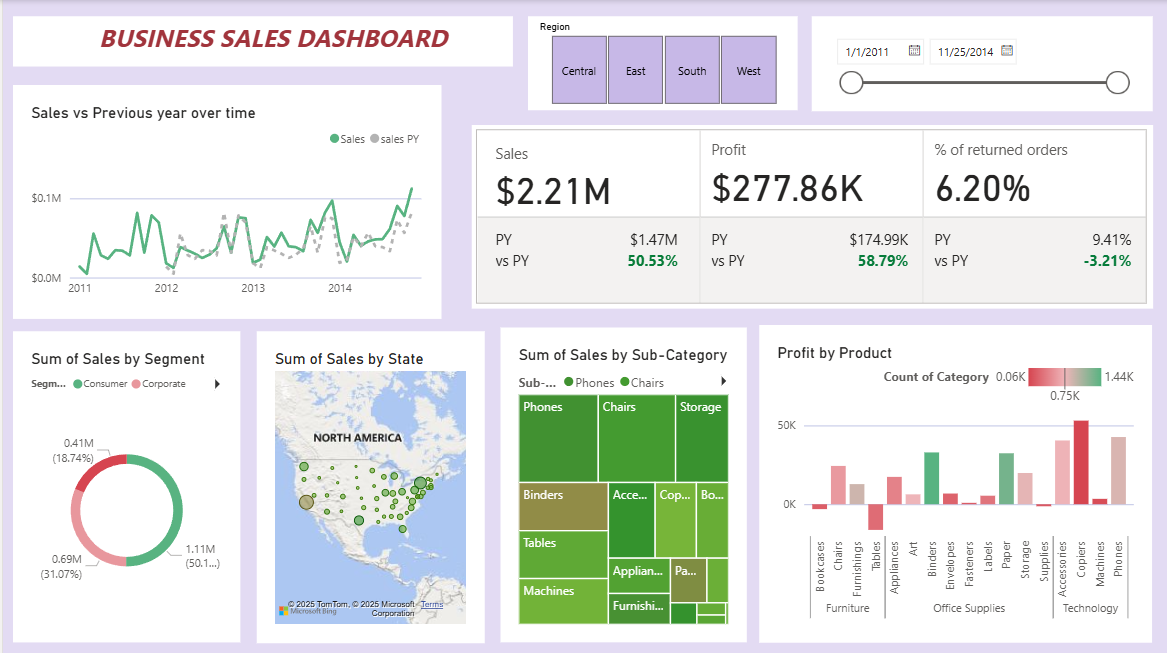

This screenshot's page, from the dashboard's own definition file:
{"tool":"powerbi","page":{"name":"Page 1","canvas":[1280,720],"ordinal":0},"visuals":[{"type":"textbox","box":[11,17.8,548.9,54.9],"z":0},{"type":"cardVisual","fields":{"Data":["Key Measures.Sales","Key Measures.Profit","Key Measures.% of returned orders"]},"box":[514.6,137.2,747.9,201.7],"z":1000},{"type":"lineChart","title":"Sales vs Previous year over time","fields":{"Y":["Key Measures.Sales","Key Measures.sales PY"],"Category":["Date Table.Start of month"]},"box":[11,93.3,470.7,256.6],"z":2000},{"type":"columnChart","title":"Profit by Product","fields":{"Category":["Orders.Category","Orders.Sub-Category"],"Y":["Sum(Orders.Profit)"]},"box":[830.2,356.8,430.9,348.5],"z":3000},{"type":"donutChart","fields":{"Y":["Sum(Orders.Sales)"],"Category":["Orders.Segment"]},"box":[11,363.6,249.7,341.7],"z":4000},{"type":"map","fields":{"Category":["Orders.State"],"Size":["Sum(Orders.Sales)"]},"box":[278.6,363.6,249.7,341.7],"z":5000},{"type":"slicer","fields":{"Values":["Date Table.Start of month"]},"box":[887.8,17.8,373.2,102.9],"z":6000},{"type":"treemap","fields":{"Group":["Orders.Sub-Category"],"Values":["Sum(Orders.Sales)"]},"box":[546.1,359.5,270.3,345.8],"z":7000},{"type":"slicer","fields":{"Values":["Orders.Region"]},"box":[576.3,17.8,296.4,102.9],"z":8000}]}

Visuals, with their boxes in screenshot pixels (x1, y1, x2, y2), scaled from the page's 1280x720 canvas onto the 1167x653 screenshot:
textbox: <box>10,16,510,66</box>
cardVisual - Key Measures.Sales x Key Measures.Profit: <box>469,124,1151,307</box>
"Sales vs Previous year over time" lineChart: <box>10,85,439,317</box>
"Profit by Product" columnChart: <box>757,324,1150,640</box>
donutChart - Sum(Orders.Sales) x Orders.Segment: <box>10,330,238,640</box>
map - Orders.State x Sum(Orders.Sales): <box>254,330,482,640</box>
slicer - Date Table.Start of month: <box>809,16,1150,109</box>
treemap - Orders.Sub-Category x Sum(Orders.Sales): <box>498,326,744,640</box>
slicer - Orders.Region: <box>525,16,796,109</box>
